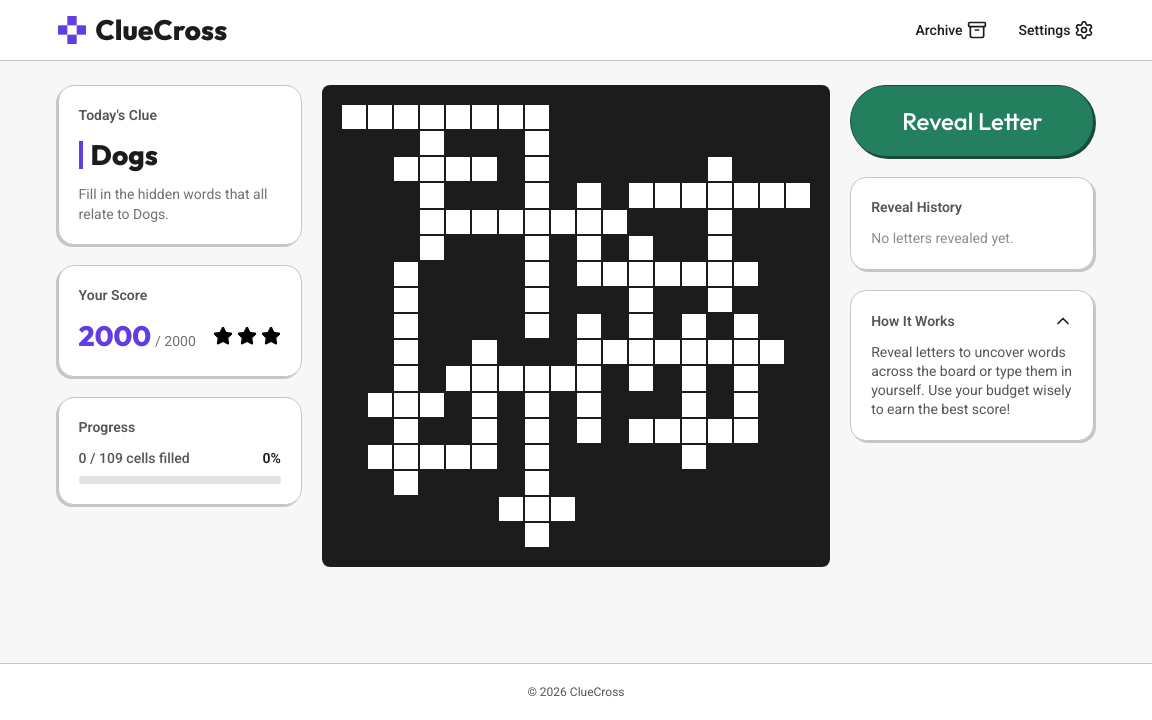
it: Settings drawer › opens on Settings click and closes via the X button
Click the button "Settings". click: (1056,30)
box: top-left (1019, 20), bottom-right (1094, 40)
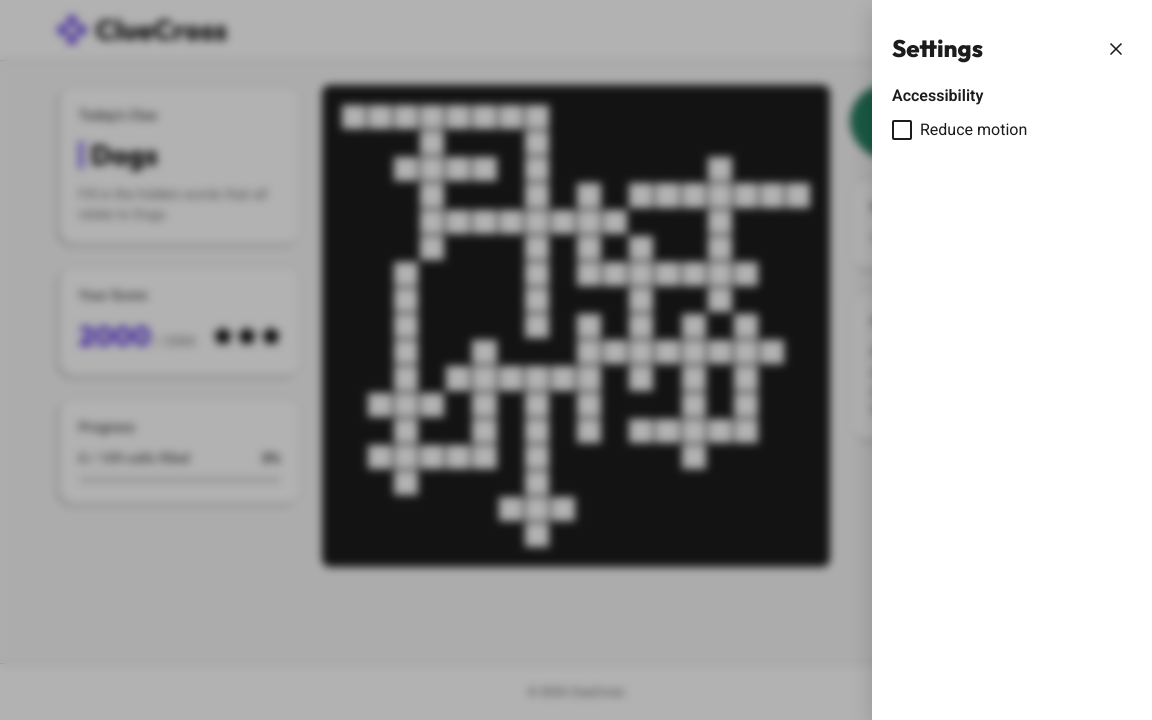
Expected: the dialog "Settings Accessibility Reduce motion" is shown, top-left (872, 0), bottom-right (1151, 719)
Click the button named "close settings". click: (1116,48)
box: top-left (1100, 32), bottom-right (1132, 64)
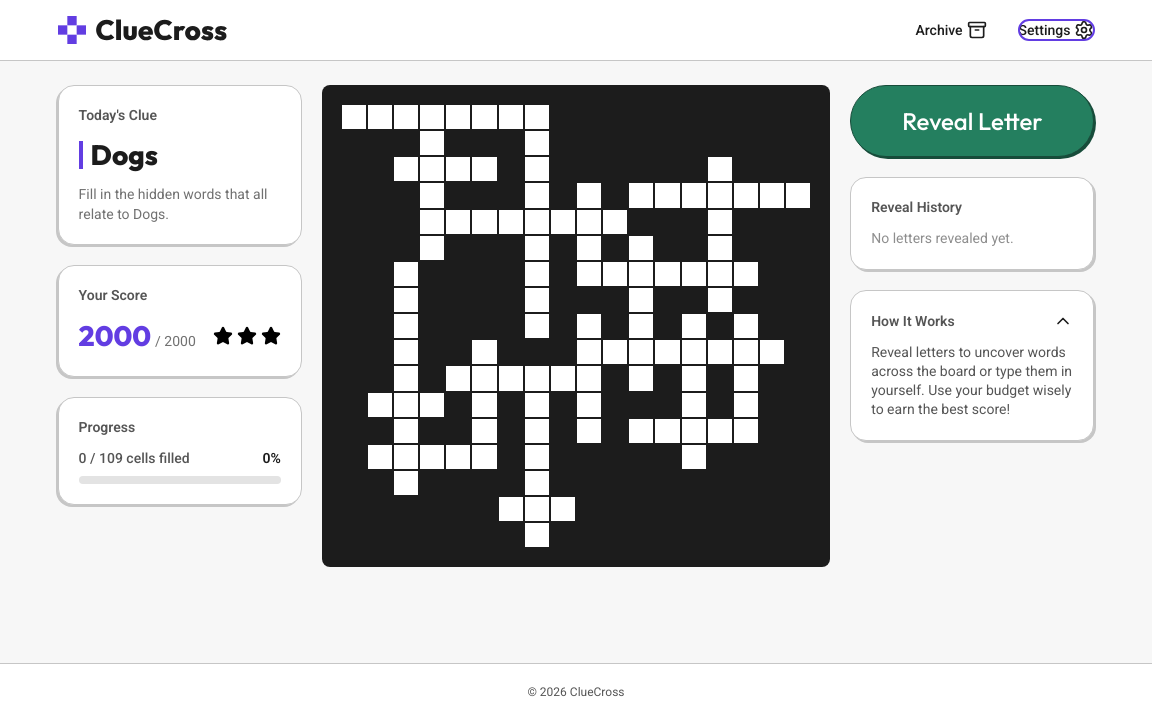
Expected: the dialog is gone
